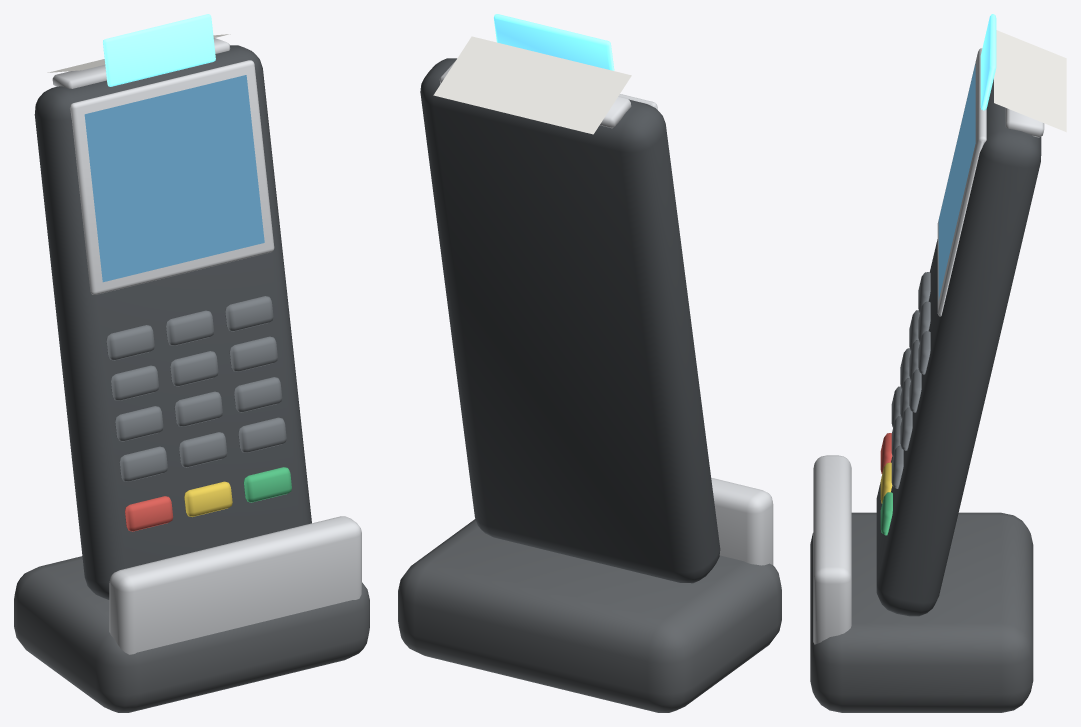
Rendered from pos_terminal.glb.
The picture shows the model from 3 angles, left to right: view 1: azimuth 30°, elevation 25°; view 2: azimuth 150°, elevation 25°; view 3: azimuth 270°, elevation 25°; orthographic projection. The views are drawn at different scales.
Visible parts, largest first — view 1: Body, Screen, Dock, DockLip, Bezel, NFCPad, Fn1, Key32, Fn2, Key30, Key00, Key02 (+10 smaller); view 2: Body, Dock, Receipt, DockLip, NFCPad, Printer; view 3: Body, Dock, DockLip, Receipt, Screen, Bezel, NFCPad, Printer, Fn2, Key02, Key22, Key32 (+1 smaller).
Part boxes in pixels (x1,y1,x2,y2): Body: [34, 45, 311, 599]; Screen: [84, 75, 264, 282]; Dock: [14, 556, 369, 712]; DockLip: [109, 516, 361, 654]; Bezel: [70, 60, 274, 294]; NFCPad: [103, 14, 215, 86]; Fn1: [184, 481, 232, 516]; Key32: [238, 417, 286, 452]; Fn2: [243, 467, 291, 502]; Key30: [119, 446, 167, 481]; Key00: [106, 325, 154, 360]; Key02: [225, 296, 273, 331]; Body: [420, 58, 720, 583]; Dock: [398, 519, 781, 712]; Receipt: [433, 36, 631, 134]; DockLip: [711, 477, 773, 565]; NFCPad: [494, 14, 614, 70]; Printer: [439, 59, 631, 128]; Body: [876, 79, 1041, 616]; Dock: [810, 512, 1033, 712]; DockLip: [813, 455, 851, 644]; Receipt: [994, 30, 1066, 132]; Screen: [938, 63, 975, 299]; Bezel: [937, 48, 986, 316]; NFCPad: [980, 14, 996, 110]; Printer: [1005, 108, 1044, 137]; Fn2: [880, 492, 892, 535]; Key02: [918, 331, 930, 374]; Key22: [900, 407, 912, 450]; Key32: [891, 445, 903, 488].
Bounding box in the file's own units: 0.1 × 0.2136 × 0.0805.
